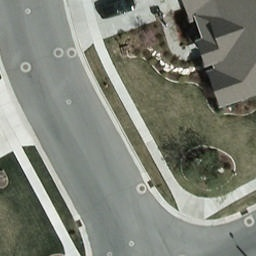car: (96, 0, 139, 21)
